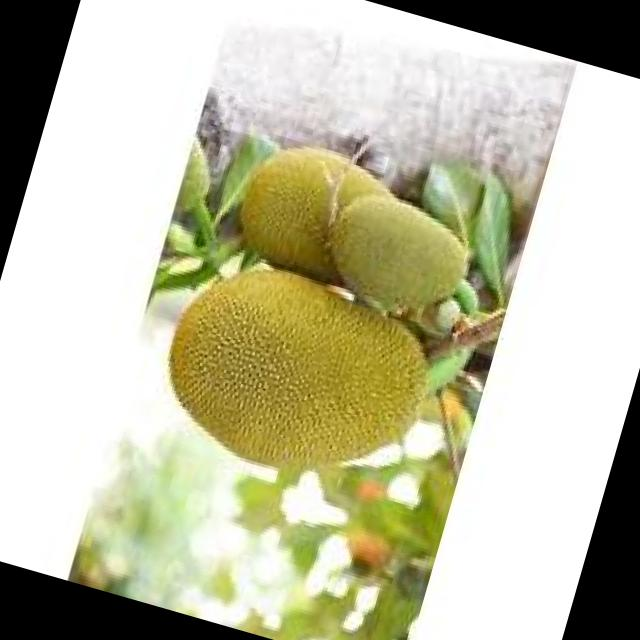Fruit: (136, 236, 454, 512), (199, 95, 509, 344)
